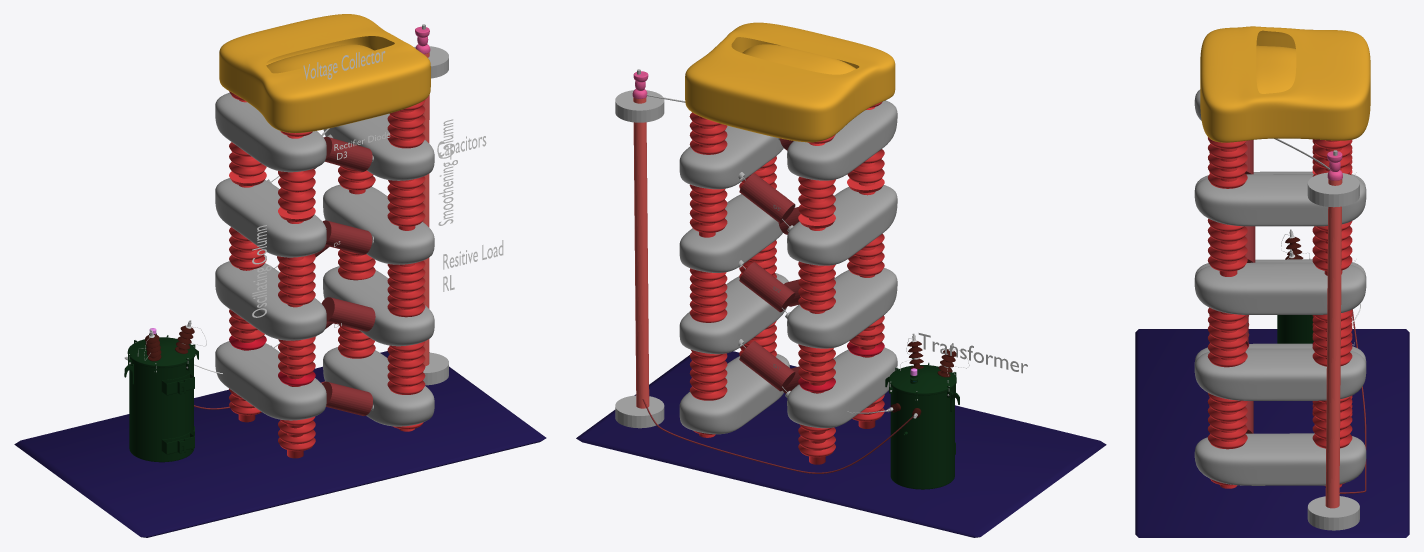
The model's file is cockroft-walton.glb.
3 renders of one model, left to right at view 1: azimuth 30°, elevation 25°; view 2: azimuth 150°, elevation 25°; view 3: azimuth 270°, elevation 25°, orthographic. The views are drawn at different scales.
Parts seen in each view (by area): view 1: Plane, Cube.002, Oil Transformer, Cube.001, Cube.004, Cube.003, Cube.007, Cube, Cube.005, Cube.006, Cylinder.006, Cube.008 (+10 smaller); view 2: Plane, Cube.002, Oil Transformer, Cube.001, Cube.003, Cube.004, Cube, Cube.007, Cube.005, Cube.006, Cylinder.105, Cube.008 (+12 smaller); view 3: Plane, Cube.002, Cube.007, Cube.005, Cube.006, Cube.008, Cylinder.105, Cylinder.006, Cylinder.089, Cylinder.102, Cylinder.103, Oil Transformer (+14 smaller).
Part boxes in pixels (x1,y1,x2,y2): Plane: (14,351,546,537); Cube.002: (219,14,430,133); Oil Transformer: (124,320,206,462); Cube.001: (215,178,326,257); Cube.004: (215,341,326,420); Cube.003: (215,261,326,340); Cube.007: (323,184,434,264); Cube: (215,92,326,172); Cube.005: (323,347,434,426); Cube.006: (323,266,434,346); Cylinder.006: (387,260,425,429); Cube.008: (323,113,434,180); Plane: (576,351,1106,537); Cube.002: (685,22,895,142); Oil Transformer: (885,333,969,489); Cube.001: (787,185,897,265); Cube.003: (787,268,897,348); Cube.004: (787,347,897,428); Cube: (787,100,897,180); Cube.007: (679,194,786,272); Cube.005: (679,353,789,434); Cube.006: (679,273,788,354); Cylinder.105: (633,97,649,408); Cube.008: (679,125,783,189); Plane: (1135,329,1409,537); Cube.002: (1200,26,1370,142); Cube.007: (1194,262,1366,314); Cube.005: (1194,433,1366,485); Cube.006: (1194,348,1366,400); Cube.008: (1194,174,1366,226); Cylinder.105: (1325,179,1342,508); Cylinder.006: (1207,307,1247,485); Cylinder.089: (1312,309,1352,484); Cylinder.102: (1307,496,1359,530); Cylinder.103: (1307,172,1359,207); Oil Transformer: (1277,229,1313,343).
Size of the model in its own units: 21.25 by 17.81 by 10.52.
